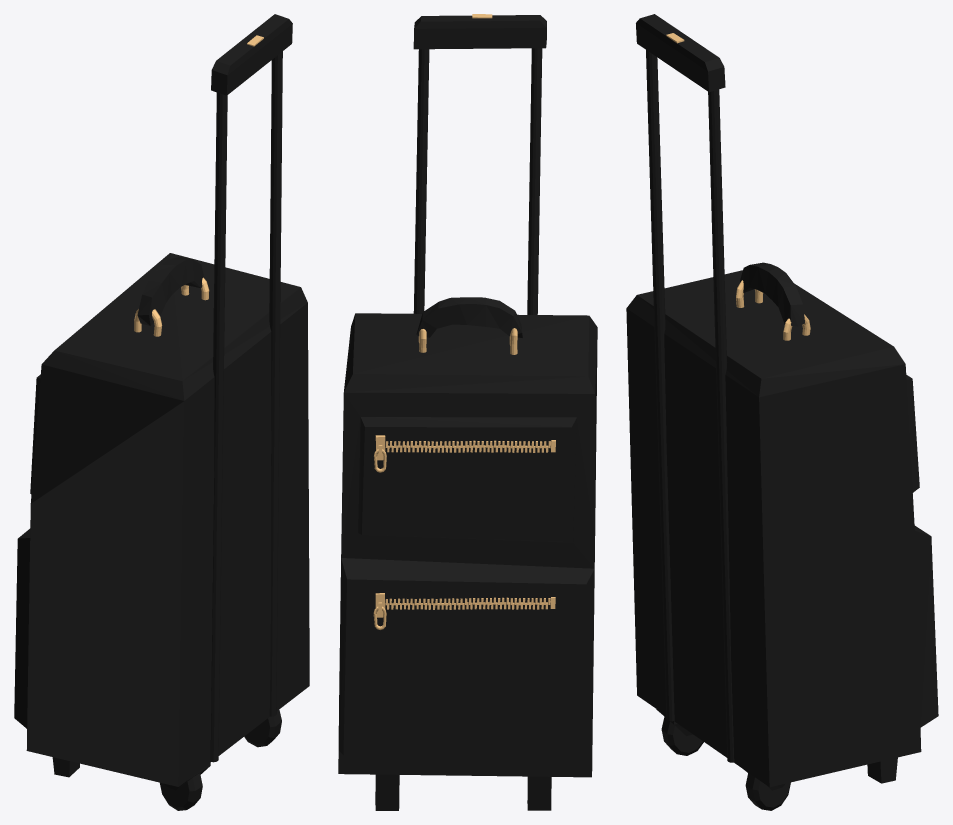
File: cabin-roller-silver.glb
3 views of the same model, side by side, from view 1: azimuth 30°, elevation 25°; view 2: azimuth 150°, elevation 25°; view 3: azimuth 270°, elevation 25° (orthographic). The views are drawn at different scales.
Visible parts, largest first — view 1: Cabin Roller Silver; view 2: Cabin Roller Silver; view 3: Cabin Roller Silver.
Part boxes in pixels (x1,y1,x2,y2): Cabin Roller Silver: (14, 14, 309, 810); Cabin Roller Silver: (338, 14, 597, 810); Cabin Roller Silver: (626, 14, 938, 810).
Size of the model in its own units: 1.29 by 3.39 by 1.28.
